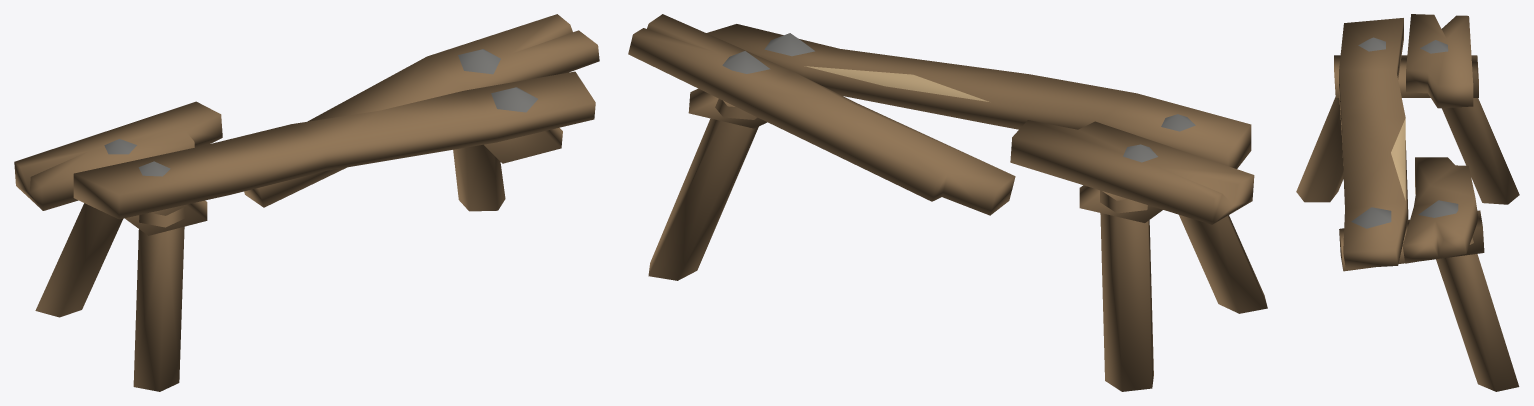
Rendered from rpgpp_av_bench_wood_04c.gltf.
3 views of the same model, side by side, from view 1: azimuth 30°, elevation 25°; view 2: azimuth 150°, elevation 25°; view 3: azimuth 270°, elevation 25° (orthographic). The views are drawn at different scales.
Parts seen in each view (by area): view 1: rpgpp_av_bench_wood_04c; view 2: rpgpp_av_bench_wood_04c; view 3: rpgpp_av_bench_wood_04c.
Part boxes in pixels (x1=…): rpgpp_av_bench_wood_04c: x1=14, y1=14, x2=599, y2=391; rpgpp_av_bench_wood_04c: x1=628, y1=14, x2=1267, y2=391; rpgpp_av_bench_wood_04c: x1=1296, y1=14, x2=1519, y2=391.
Size of the model in its own units: 0.0132 by 0.00432 by 0.00512.
1 material, 1 textured.
